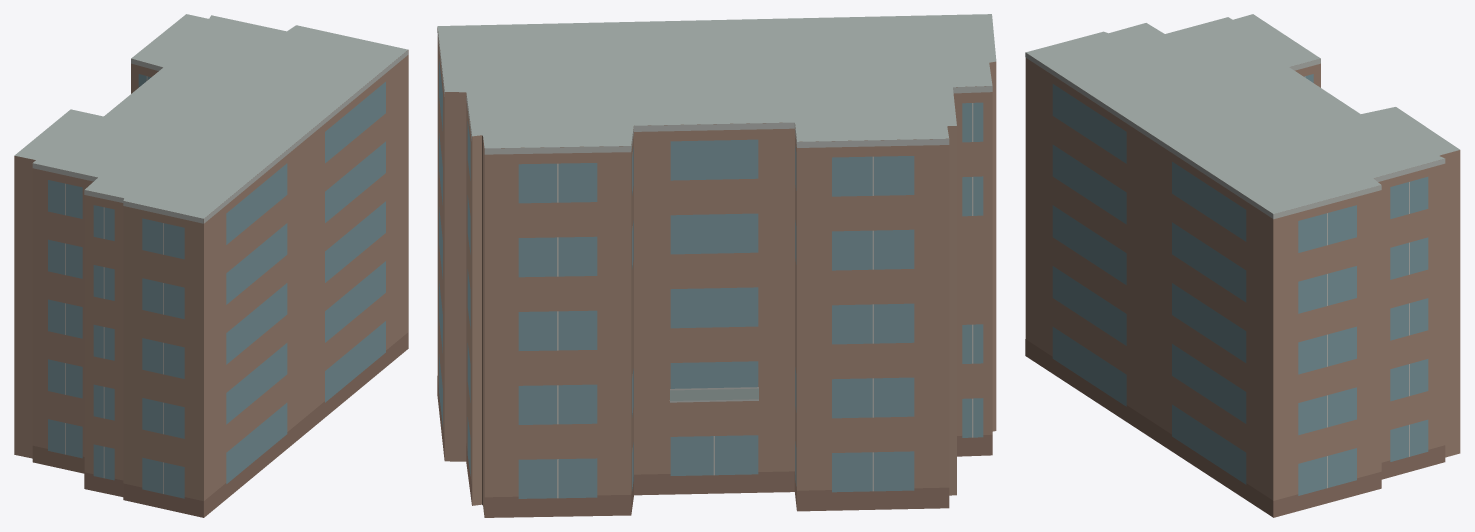
The model's file is survey-upis-32881033.glb.
The picture shows the model from 3 angles, left to right: view 1: azimuth 30°, elevation 25°; view 2: azimuth 150°, elevation 25°; view 3: azimuth 270°, elevation 25°; orthographic projection. The views are drawn at different scales.
Visible parts, largest first — view 1: survey-upis-32881033.tmp; view 2: survey-upis-32881033.tmp; view 3: survey-upis-32881033.tmp.
Part boxes in pixels (x1,y1,x2,y2): survey-upis-32881033.tmp: (14, 14, 408, 517); survey-upis-32881033.tmp: (437, 14, 996, 517); survey-upis-32881033.tmp: (1025, 14, 1460, 517).
Size of the model in its own units: 20.45 by 14.45 by 18.76.
